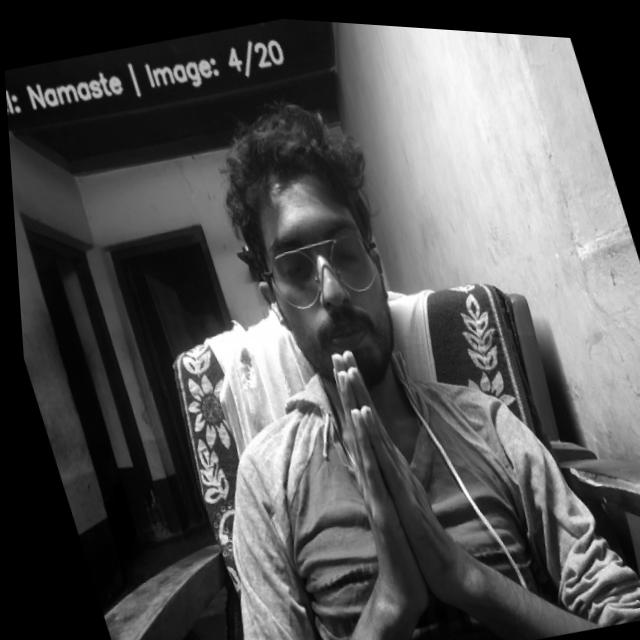Namaste: (294, 329, 486, 640)
